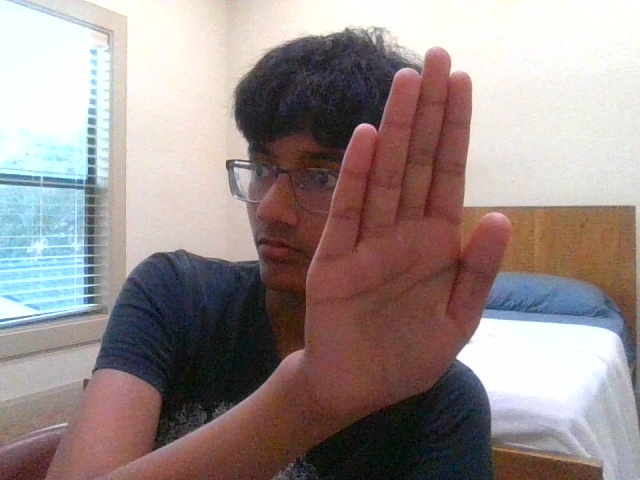hello: (304, 48, 512, 403)
